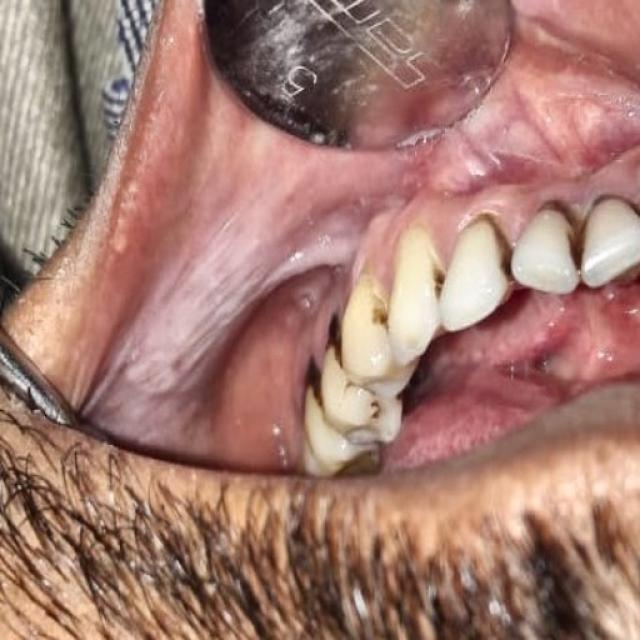leukoplakia-detection: (84, 172, 386, 451)
processing_area: (11, 2, 639, 466), (383, 286, 639, 465)
